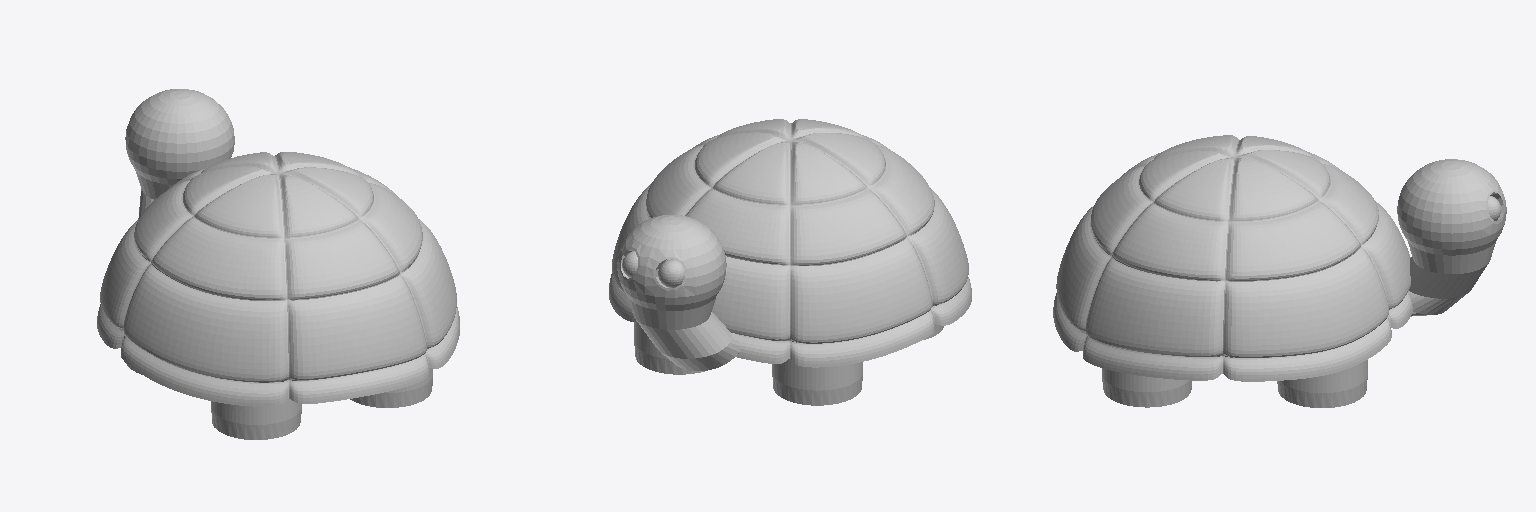
File: tortue3.obj
The picture shows the model from 3 angles: view 1: azimuth 30°, elevation 25°; view 2: azimuth 150°, elevation 25°; view 3: azimuth 270°, elevation 25°; orthographic projection.
Visible parts, largest first — view 1: Sphère, Sphère.001, Cylindre.003, Cylindre.002; view 2: Sphère, Sphère.001, Cylindre, Cylindre.001, Sphère.002; view 3: Sphère, Sphère.001, Cylindre.001, Cylindre.002.
Part boxes in pixels (x1,y1,x2,y2): Sphère: (97, 152, 459, 406); Sphère.001: (125, 89, 234, 218); Cylindre.003: (211, 399, 301, 439); Cylindre.002: (350, 368, 432, 407); Sphère: (609, 119, 971, 367); Sphère.001: (617, 215, 739, 370); Cylindre: (772, 359, 862, 405); Cylindre.001: (634, 322, 704, 374); Sphère.002: (658, 259, 684, 287); Sphère: (1053, 135, 1412, 381); Sphère.001: (1397, 159, 1506, 316); Cylindre.001: (1277, 360, 1367, 407); Cylindre.002: (1102, 368, 1191, 407).
Bounding box in the file's own units: 1.98 × 1.24 × 2.48.